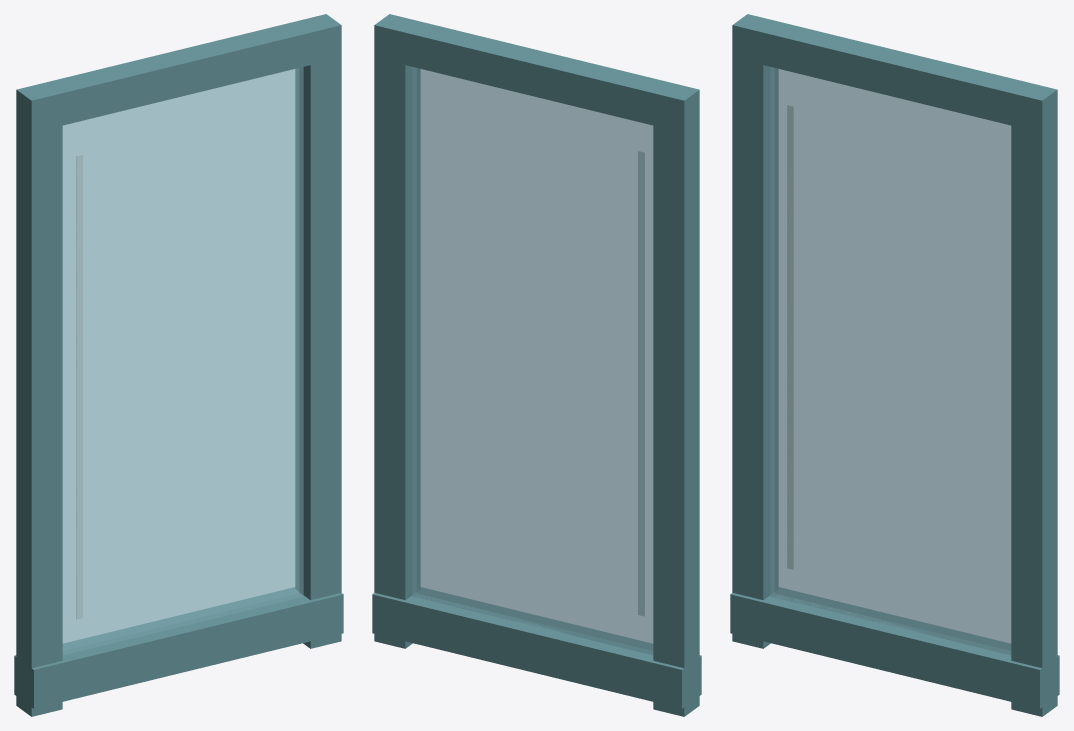
The model's file is CMU3DDirectionalWindow.glb.
3 renders of one model, left to right at view 1: azimuth 30°, elevation 25°; view 2: azimuth 150°, elevation 25°; view 3: azimuth 330°, elevation 25°, orthographic.
Parts seen in each view (by area): view 1: tinted glass, left jamb, right jamb, sill, lintel, glass reflection edge; view 2: tinted glass, left jamb, right jamb, sill, lintel, glass reflection edge; view 3: tinted glass, right jamb, left jamb, sill, lintel, glass reflection edge.
Part boxes in pixels (x1,y1,x2,y2): tinted glass: [62, 67, 303, 654]; left jamb: [16, 82, 62, 716]; right jamb: [295, 14, 341, 648]; sill: [14, 587, 343, 708]; lintel: [16, 14, 341, 132]; glass reflection edge: [76, 154, 82, 619]; tinted glass: [412, 67, 653, 654]; left jamb: [653, 82, 699, 716]; right jamb: [374, 14, 420, 648]; sill: [372, 587, 701, 708]; lintel: [374, 14, 699, 132]; glass reflection edge: [638, 151, 644, 615]; tinted glass: [770, 67, 1011, 654]; right jamb: [1011, 82, 1057, 716]; left jamb: [732, 14, 778, 648]; sill: [730, 587, 1059, 708]; lintel: [732, 14, 1057, 132]; glass reflection edge: [787, 104, 793, 570].
Size of the model in its own units: 1 by 1.9 by 0.11.
